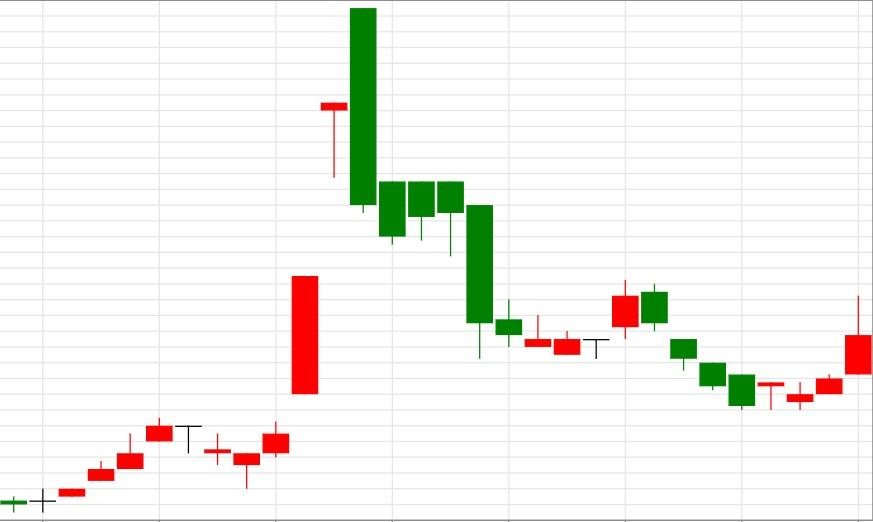bearish_engulfing_fall: (232, 8, 378, 490)
three_black_crows_fall: (553, 279, 727, 390)
three_white_soldiers_rise: (641, 284, 873, 410)
